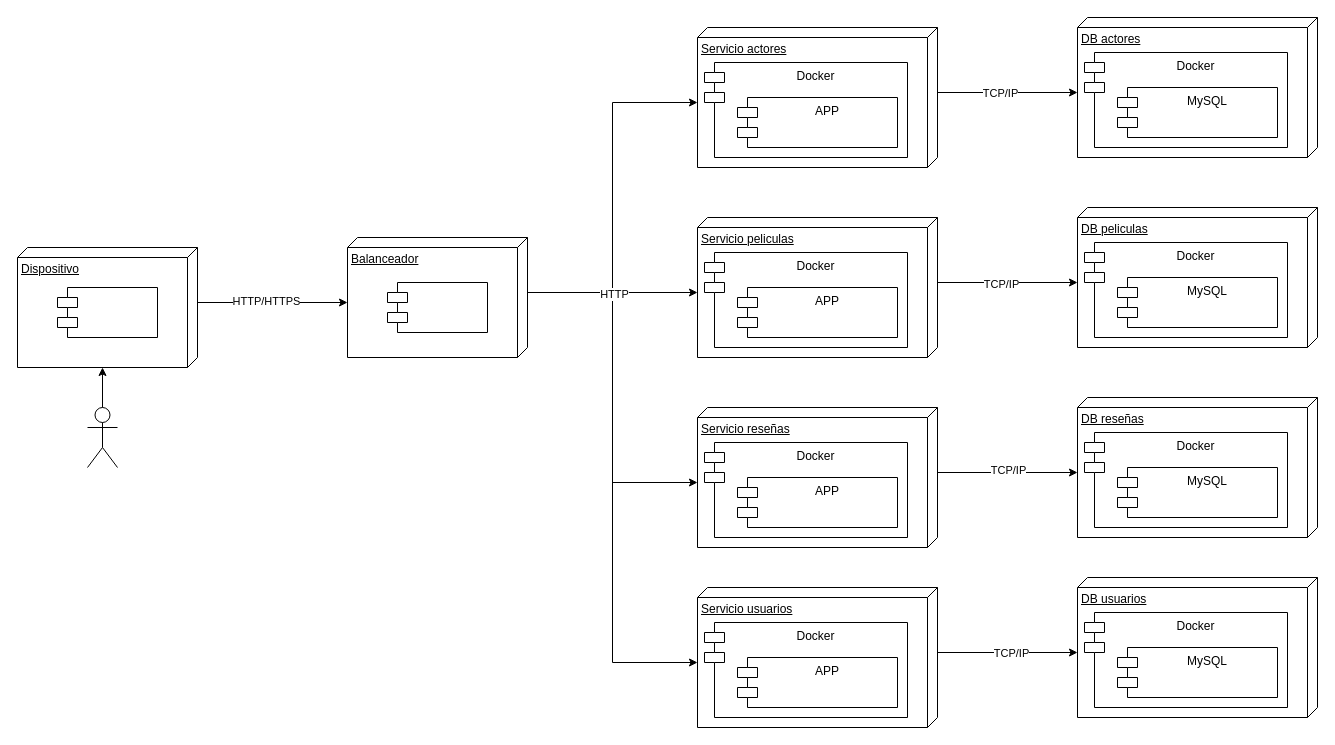
Image size: 1335x745. Some labels were removed from this diagram. The centre of each missing label's shape, as x and y in pixels:
Gateway: the point at 437,307
Ordenador: the point at 107,312
Usuario: the point at 102,437
